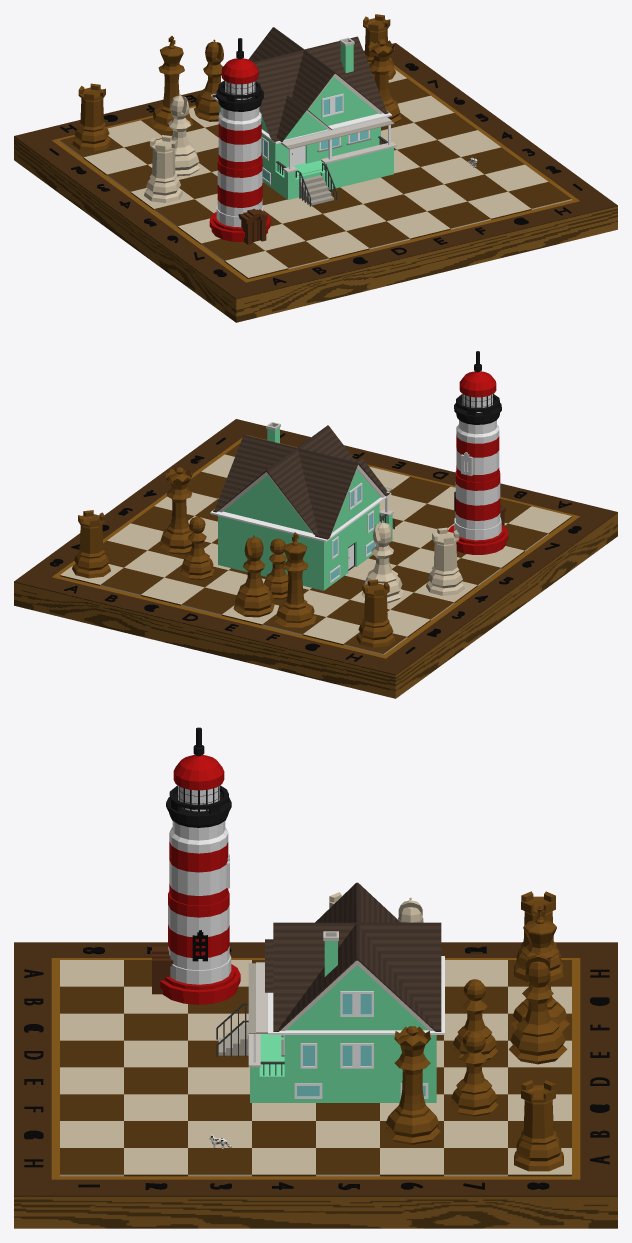
The picture shows the model from 3 angles, top to bottom: view 1: azimuth 30°, elevation 25°; view 2: azimuth 150°, elevation 25°; view 3: azimuth 270°, elevation 25°; orthographic projection. The views are drawn at different scales.
Visible parts, largest first — view 1: Cube.002, Cube.352, OBJRANDOM_LIGHTHOUSE; view 2: Cube.002, Cube.352, OBJRANDOM_LIGHTHOUSE; view 3: Cube.002, Cube.352, OBJRANDOM_LIGHTHOUSE.
Part boxes in pixels (x1,y1,x2,y2): Cube.002: (14,14,617,322); Cube.352: (211,27,396,206); OBJRANDOM_LIGHTHOUSE: (209,38,270,244); Cube.002: (14,419,617,698); Cube.352: (210,422,394,590); OBJRANDOM_LIGHTHOUSE: (447,351,508,554); Cube.002: (14,891,617,1228); Cube.352: (216,882,444,1102); OBJRANDOM_LIGHTHOUSE: (152,727,240,1004).
Size of the model in its own units: 3981 by 2252 by 4012.
32 materials, 2 textured.
